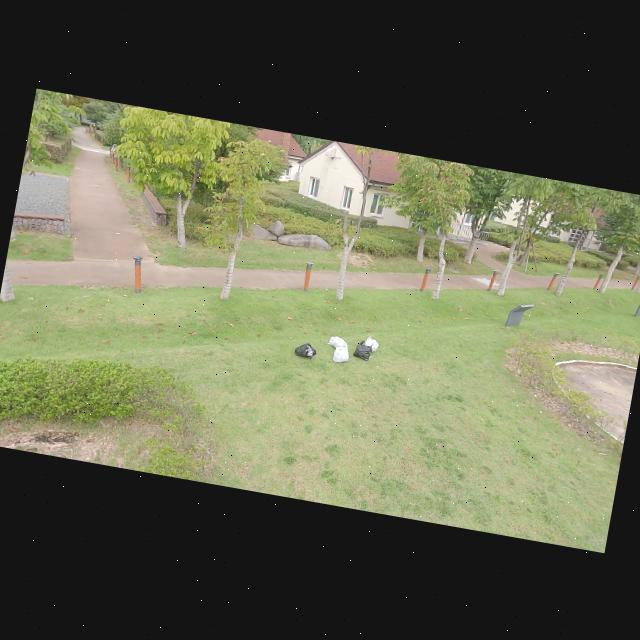trash: (329, 338, 353, 364), (292, 339, 319, 361), (352, 339, 374, 361), (326, 334, 351, 351), (361, 332, 380, 353)
